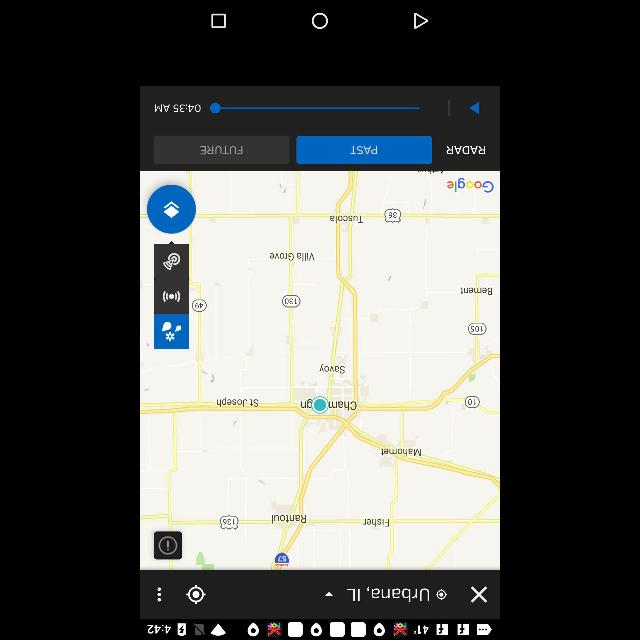button: (147, 185, 196, 233)
icon: (209, 102, 425, 114), (186, 584, 206, 606), (469, 586, 488, 604), (312, 12, 328, 28), (211, 12, 227, 28), (414, 12, 428, 30), (435, 588, 449, 602), (468, 100, 482, 114), (156, 586, 164, 602), (324, 592, 334, 598)
map: (142, 170, 500, 570)
panel: (140, 1, 500, 39)
text: (346, 586, 432, 604), (152, 103, 202, 113), (446, 144, 486, 156), (199, 145, 243, 155), (349, 146, 378, 156)
textbutton: (153, 136, 290, 164), (296, 136, 432, 164)
toolbar: (140, 570, 500, 618)
uppertaskbar: (141, 618, 499, 640)
